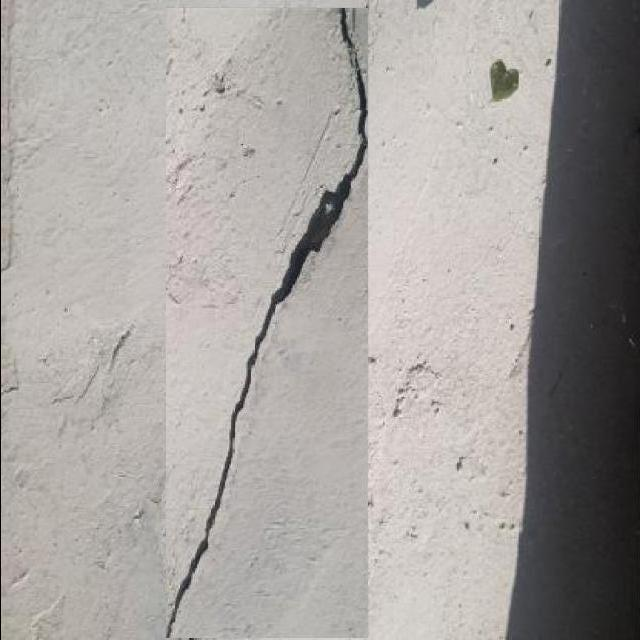Crack: (162, 6, 370, 637)
